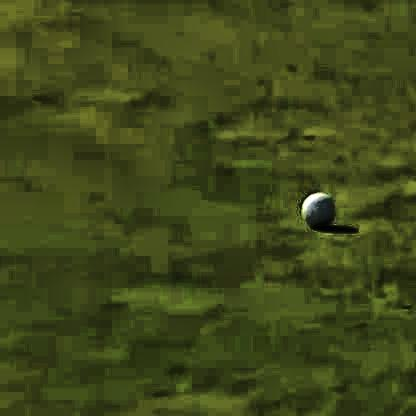golfball: (296, 182, 332, 224)
